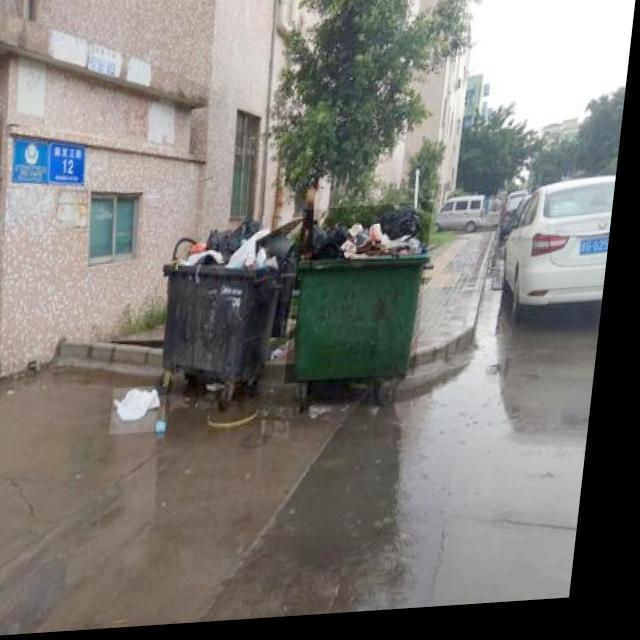garbage: (119, 388, 177, 437)
overflow: (293, 208, 439, 389), (159, 218, 301, 386)
